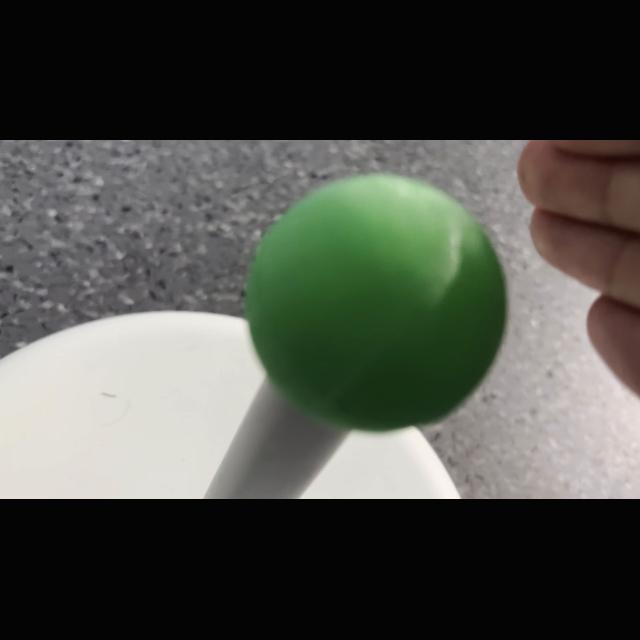objects: (238, 169, 516, 439)
